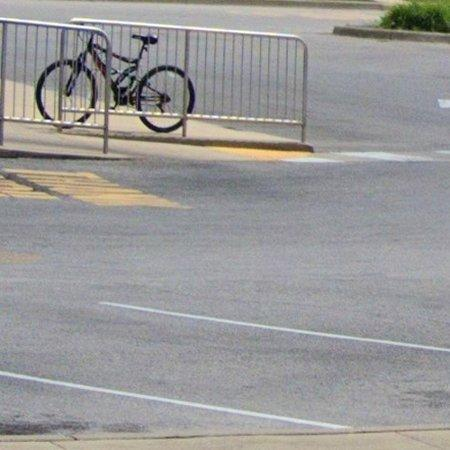bicycles: (110, 34, 196, 132), (35, 32, 106, 126)
